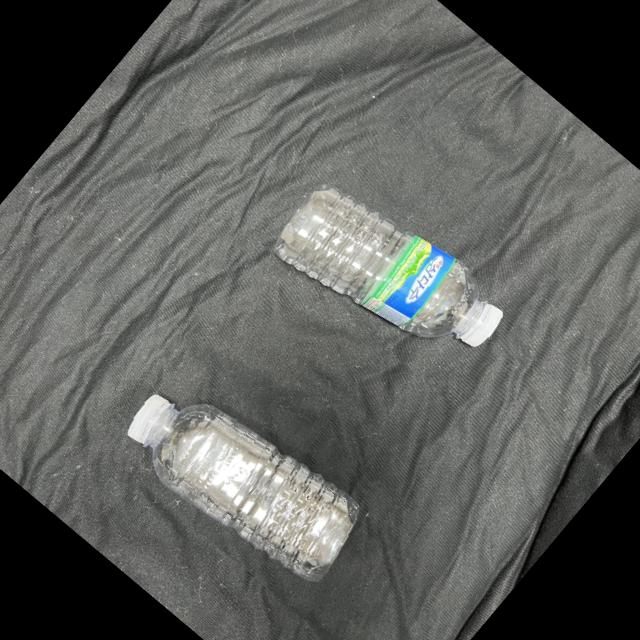plastic bottle: (98, 351, 384, 600), (261, 164, 535, 383)
